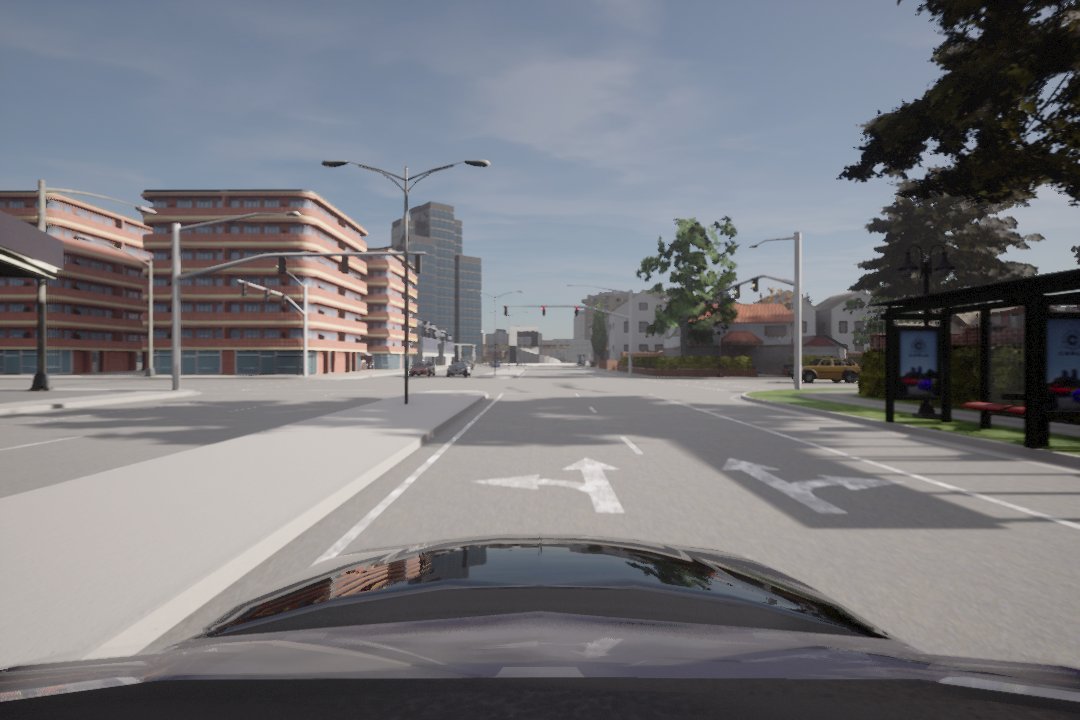RoadSign_forward_left: (463, 451, 632, 517)
RoadSign_forward_right: (710, 454, 904, 521)
